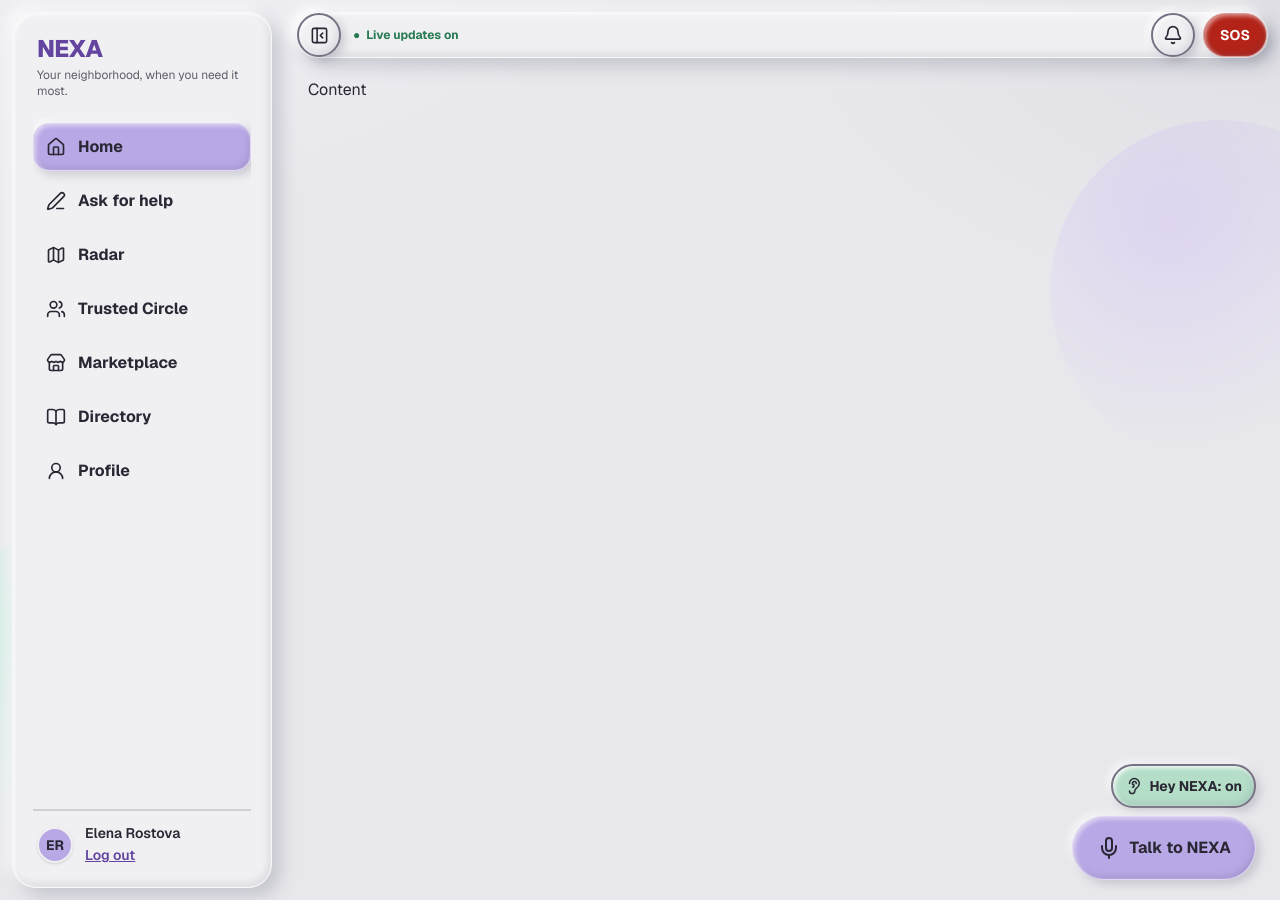
Scenario: AppShell Sidebar › can be collapsed and expanded using the collapse button
Expected: the text "Your neighborhood, when you need it most." is shown, left=37, top=67, right=247, bottom=99
Note: Click collapse button
Click the button named "collapse sidebar".
click(319, 35)  # box left=297, top=13, right=341, bottom=57
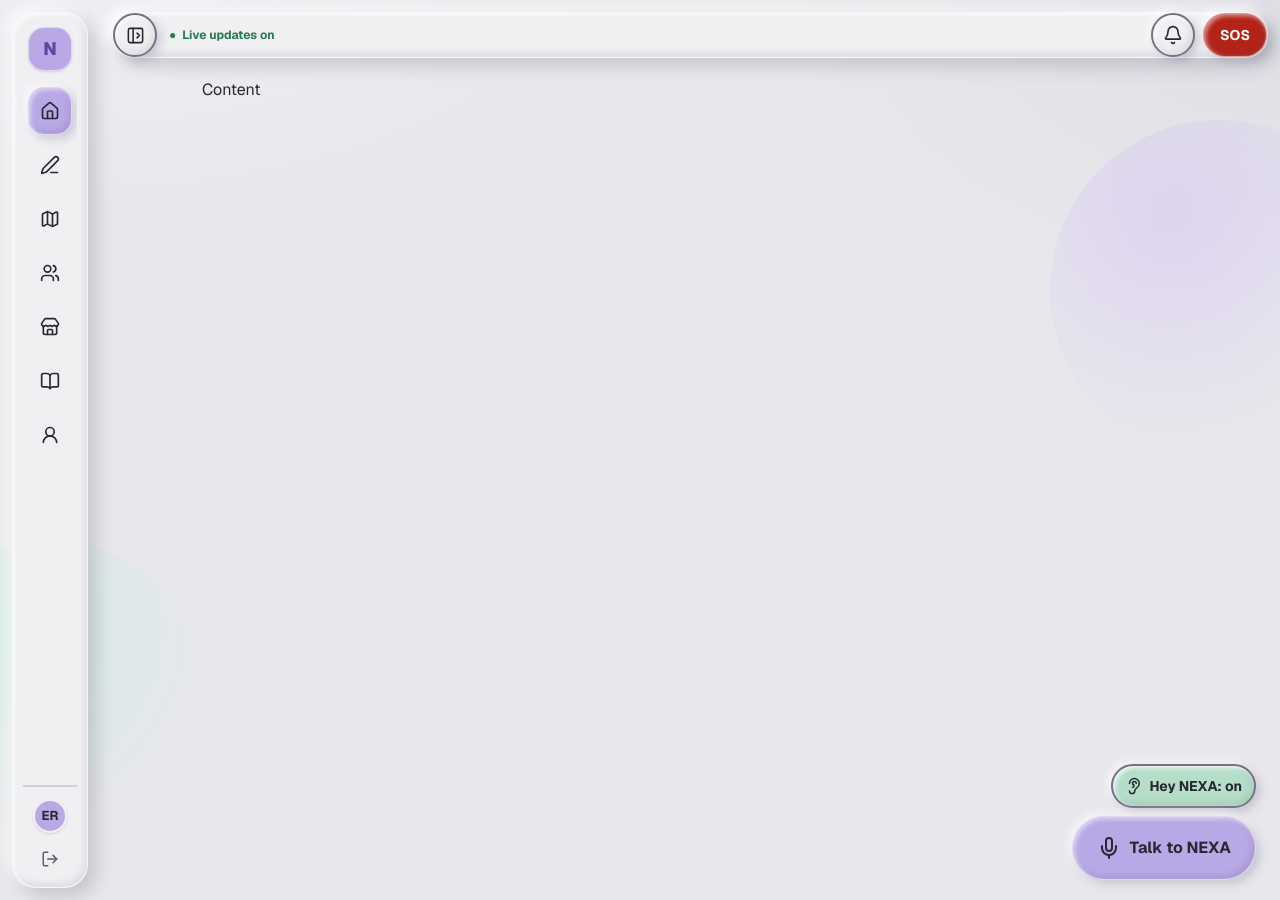
Expected: the text "Your neighborhood, when you need it most." is gone
Note: Click expand button
Click the button named "expand sidebar".
click(135, 35)  # box left=113, top=13, right=157, bottom=57
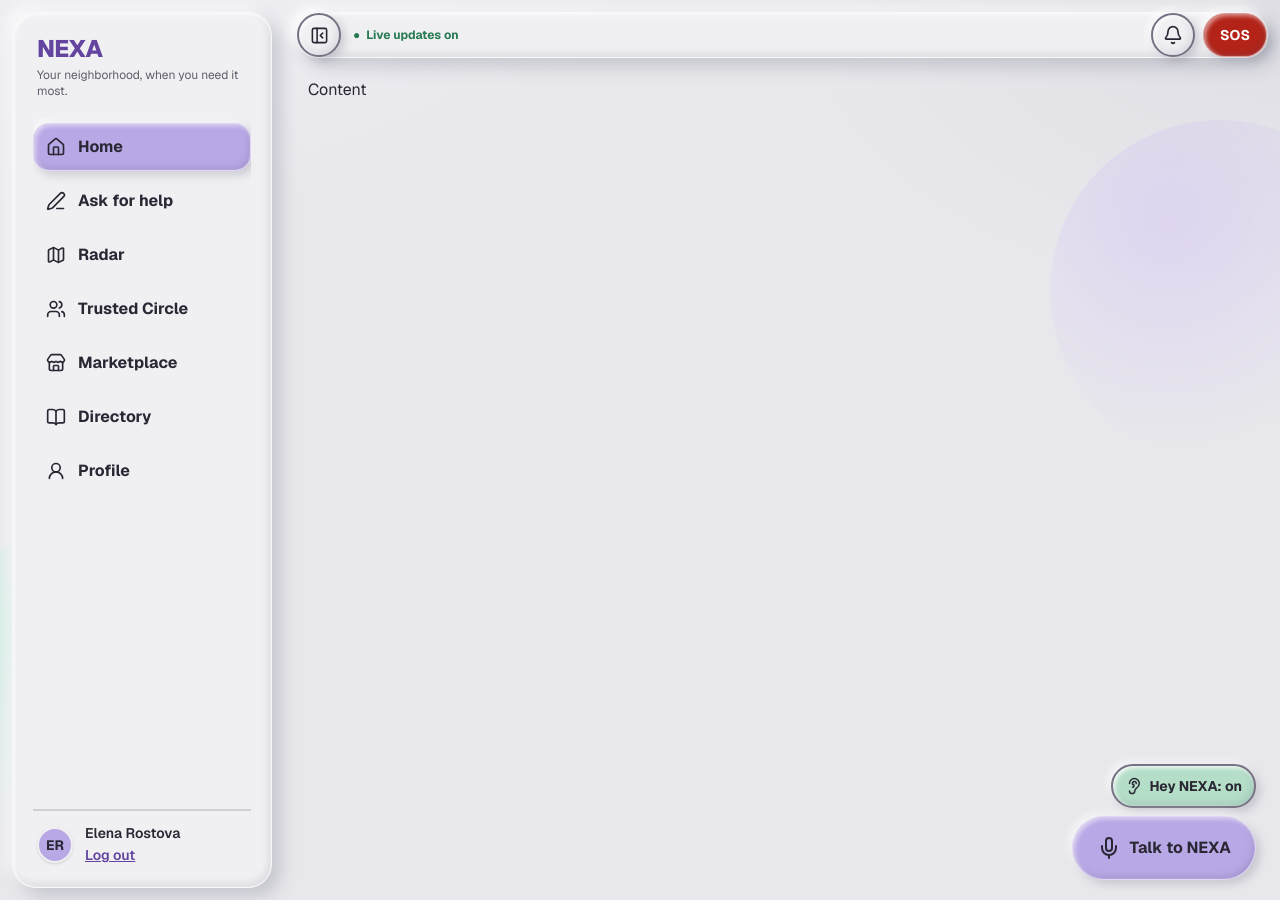
Expected: the text "Your neighborhood, when you need it most." is shown, left=37, top=67, right=247, bottom=99
